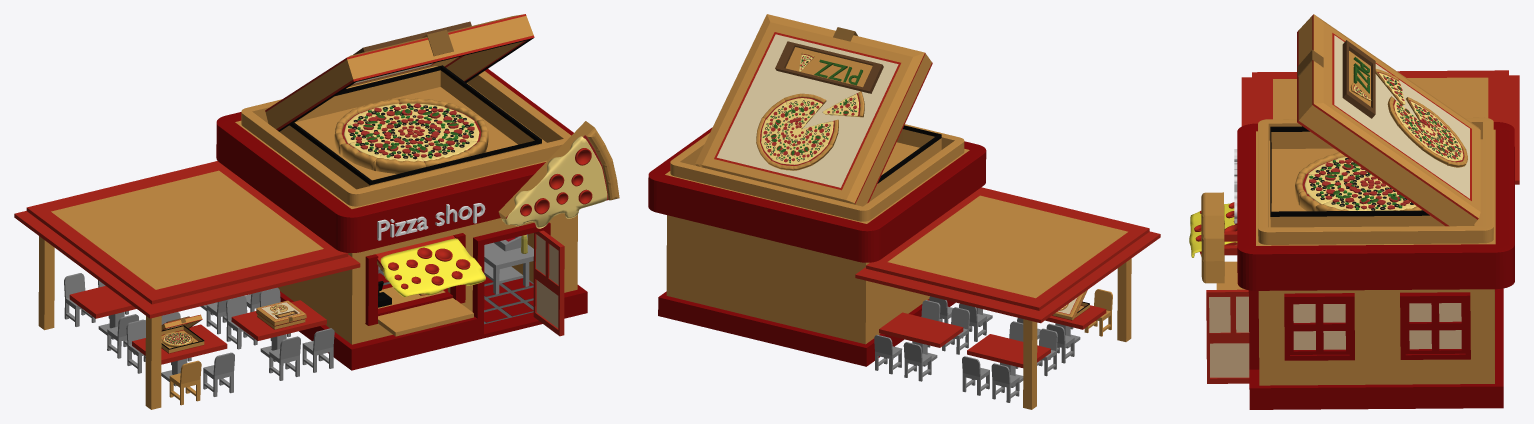
File: pizza_shop.glb
The picture shows the model from 3 angles, left to right: view 1: azimuth 30°, elevation 25°; view 2: azimuth 150°, elevation 25°; view 3: azimuth 270°, elevation 25°; orthographic projection. The views are drawn at different scales.
Parts seen in each view (by area): view 1: Text.1551; view 2: Text.1551; view 3: Text.1551.
Boxes of the visible parts, <box> form: Text.1551: <box>14,14,619,409</box>; Text.1551: <box>648,14,1160,409</box>; Text.1551: <box>1189,14,1519,409</box>.
Bounding box in the file's own units: 18.51 × 11.3 × 11.37.
